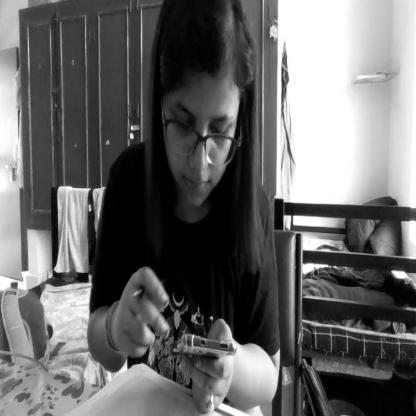Normal: (156, 0, 247, 217)
